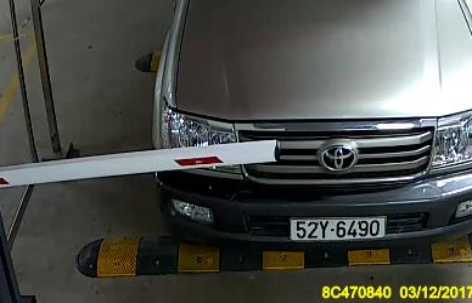plate: (288, 217, 388, 241)
